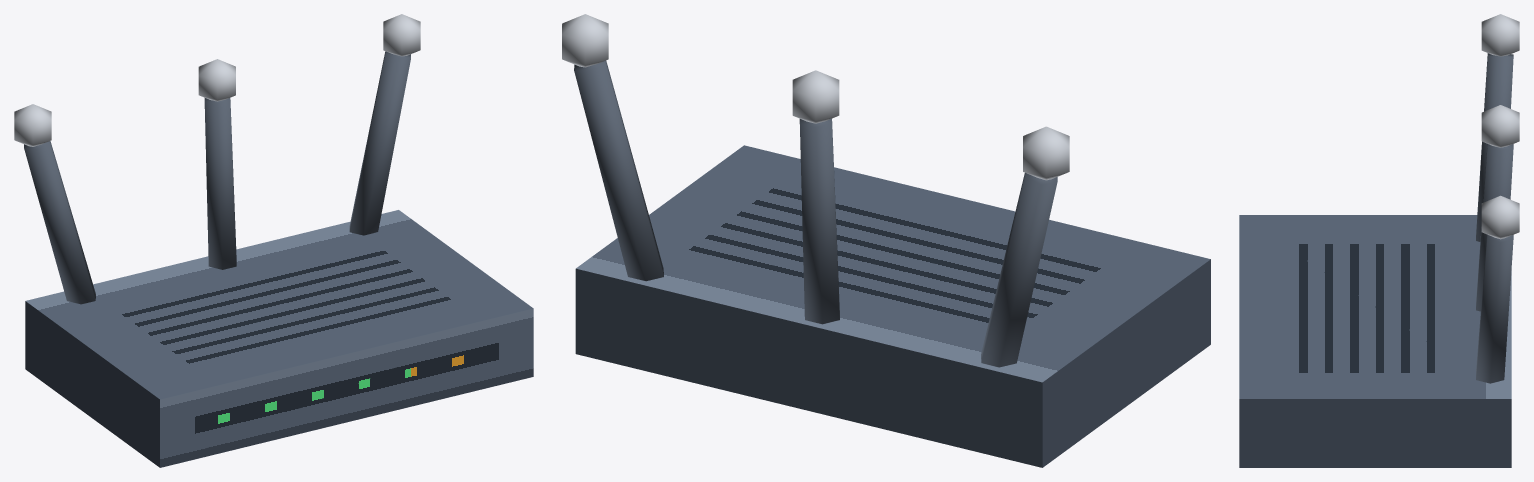
The model's file is around-router.glb.
3 views of the same model, side by side, from view 1: azimuth 30°, elevation 25°; view 2: azimuth 150°, elevation 25°; view 3: azimuth 270°, elevation 25° (orthographic). The views are drawn at different scales.
Visible parts, largest first — view 1: around.router; view 2: around.router; view 3: around.router.
Part boxes in pixels (x1,y1,x2,y2): around.router: (14, 14, 533, 467); around.router: (562, 14, 1210, 467); around.router: (1239, 14, 1519, 467).
Bounding box in the file's own units: 1.58 × 1 × 0.9367.
Materials: 5 (2 with a texture image).
